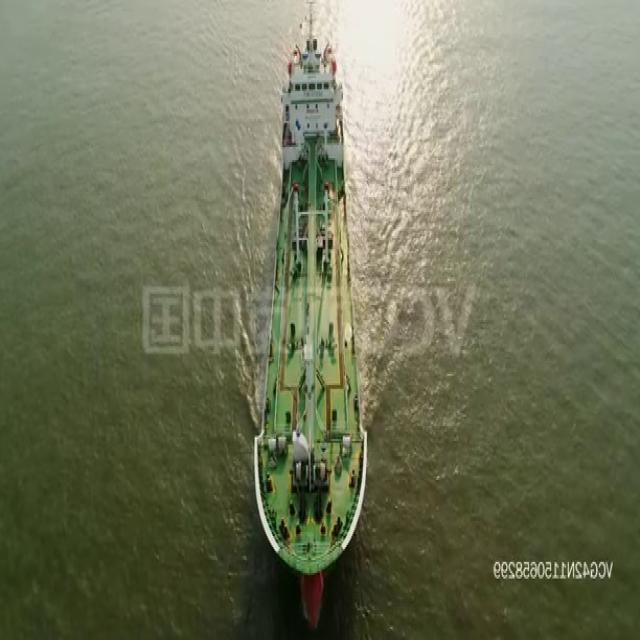cargoship: (253, 3, 366, 630)
